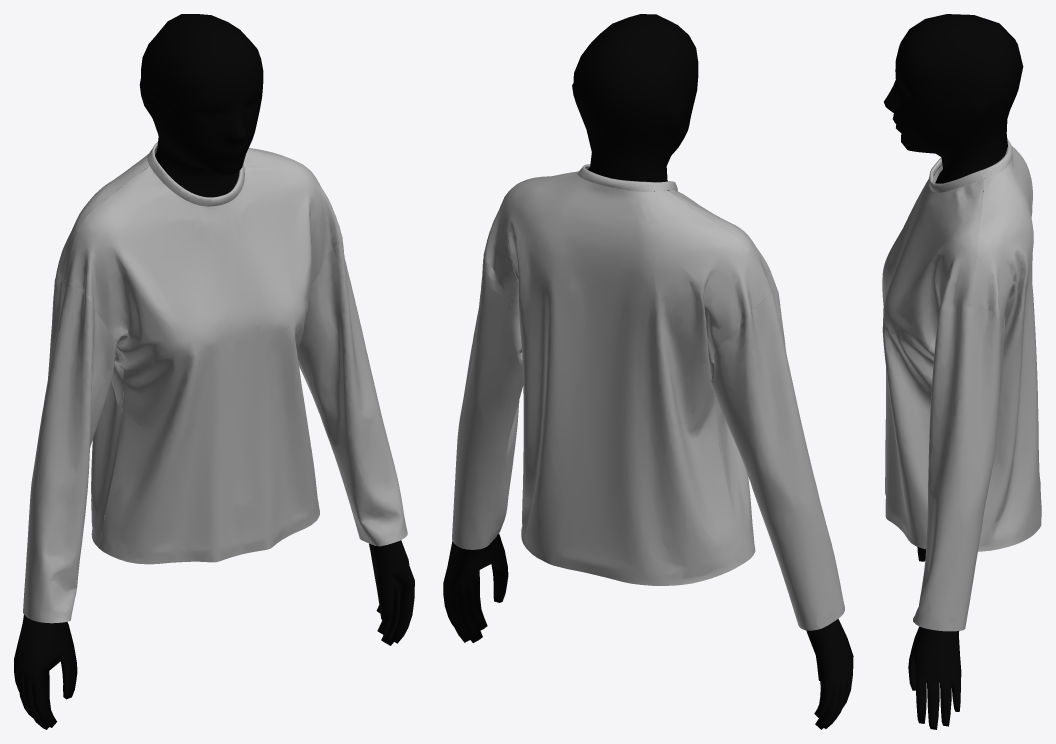
The model's file is womens_long_sleeve_-_mockup_asset.glb.
3 views of the same model, side by side, from view 1: azimuth 30°, elevation 25°; view 2: azimuth 150°, elevation 25°; view 3: azimuth 270°, elevation 25° (orthographic). The views are drawn at different scales.
Visible parts, largest first — view 1: Object_3, Object_2; view 2: Object_3, Object_2; view 3: Object_3, Object_2.
Boxes of the visible parts, x1=… form: Object_3: x1=23, y1=142, x2=407, y2=623; Object_2: x1=14, y1=14, x2=414, y2=729; Object_3: x1=452, y1=164, x2=844, y2=630; Object_2: x1=443, y1=14, x2=853, y2=729; Object_3: x1=882, y1=139, x2=1041, y2=631; Object_2: x1=884, y1=14, x2=1023, y2=729.
Bounding box in the file's own units: 55.74 × 91.81 × 21.05.
Materials: 2 (1 with a texture image).
